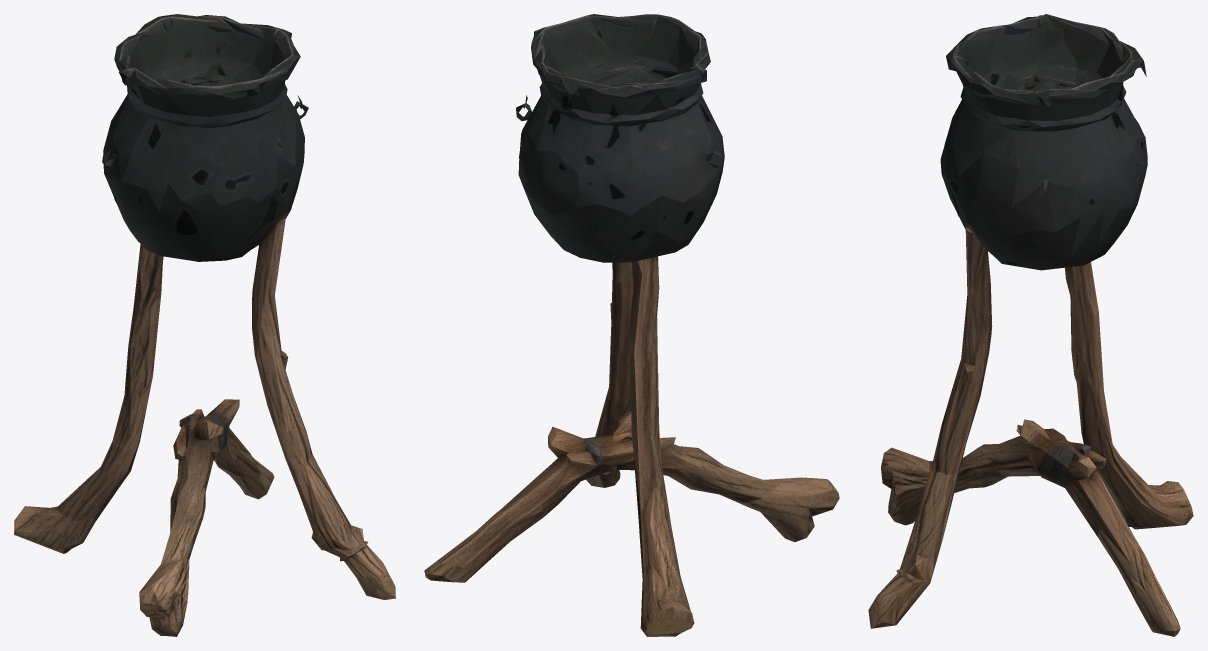
The picture shows the model from 3 angles, left to right: view 1: azimuth 30°, elevation 25°; view 2: azimuth 150°, elevation 25°; view 3: azimuth 270°, elevation 25°; orthographic projection. The views are drawn at different scales.
Bounding box in the file's own units: 1.05 × 1.9 × 1.06.
Materials: 1 (1 with a texture image).
